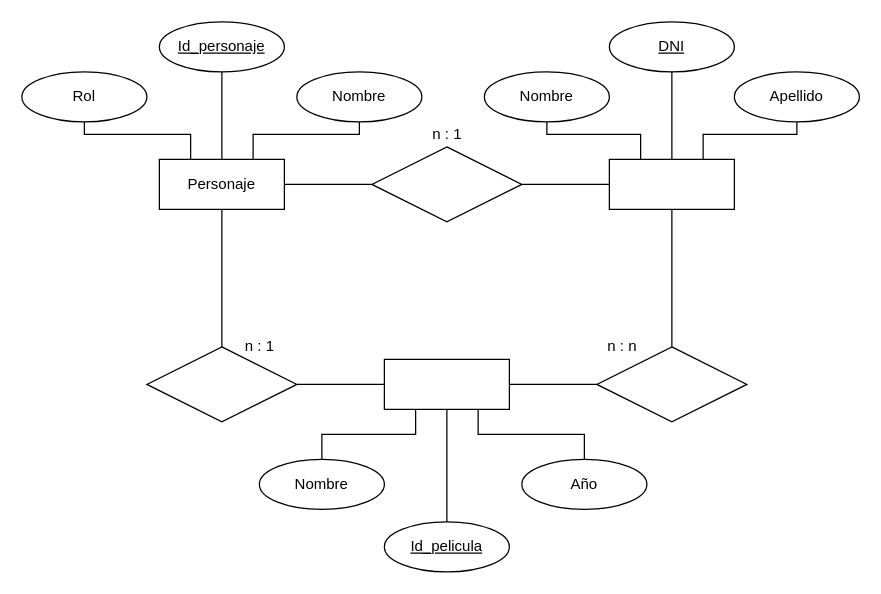
This 881x594 diagram has some shape labels left out. The box of each missing label's shape, as (x1, y1, x2, y2) in pixels:
Actor: (608, 158, 734, 209)
Pelicula: (383, 358, 509, 409)
Representan: (371, 146, 522, 222)
Tiene: (146, 346, 297, 422)
Trabajan: (596, 346, 747, 422)
